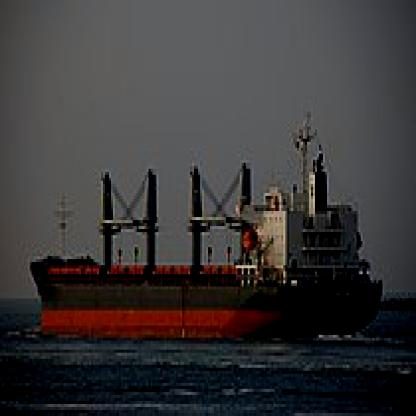Tanker: (26, 102, 388, 350)
